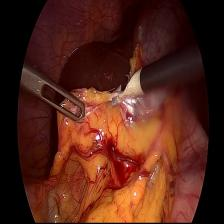Grasper: (23, 64, 86, 125)
Hook: (114, 68, 146, 102)
